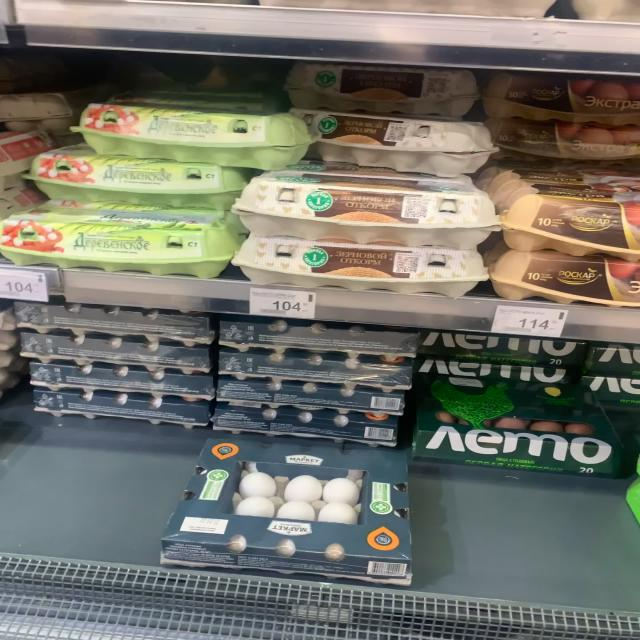egg box: (144, 424, 414, 584), (402, 385, 636, 480), (229, 153, 491, 233), (208, 227, 485, 298), (19, 136, 256, 217), (80, 88, 311, 167), (2, 199, 229, 273), (281, 102, 498, 170)
